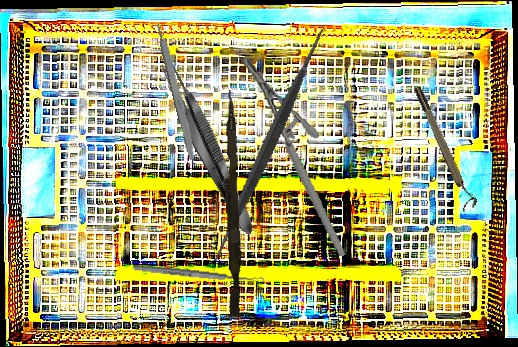Fixation Ring: (411, 82, 480, 213)
Needle Holder: (239, 48, 347, 266)
Pusher: (218, 89, 246, 317)
Scalpel Handle: (154, 19, 200, 167)
Spatula Surgical: (150, 25, 387, 265)
Surgical Spoon: (132, 263, 266, 286)
Tissue Forceps: (153, 55, 262, 242)
